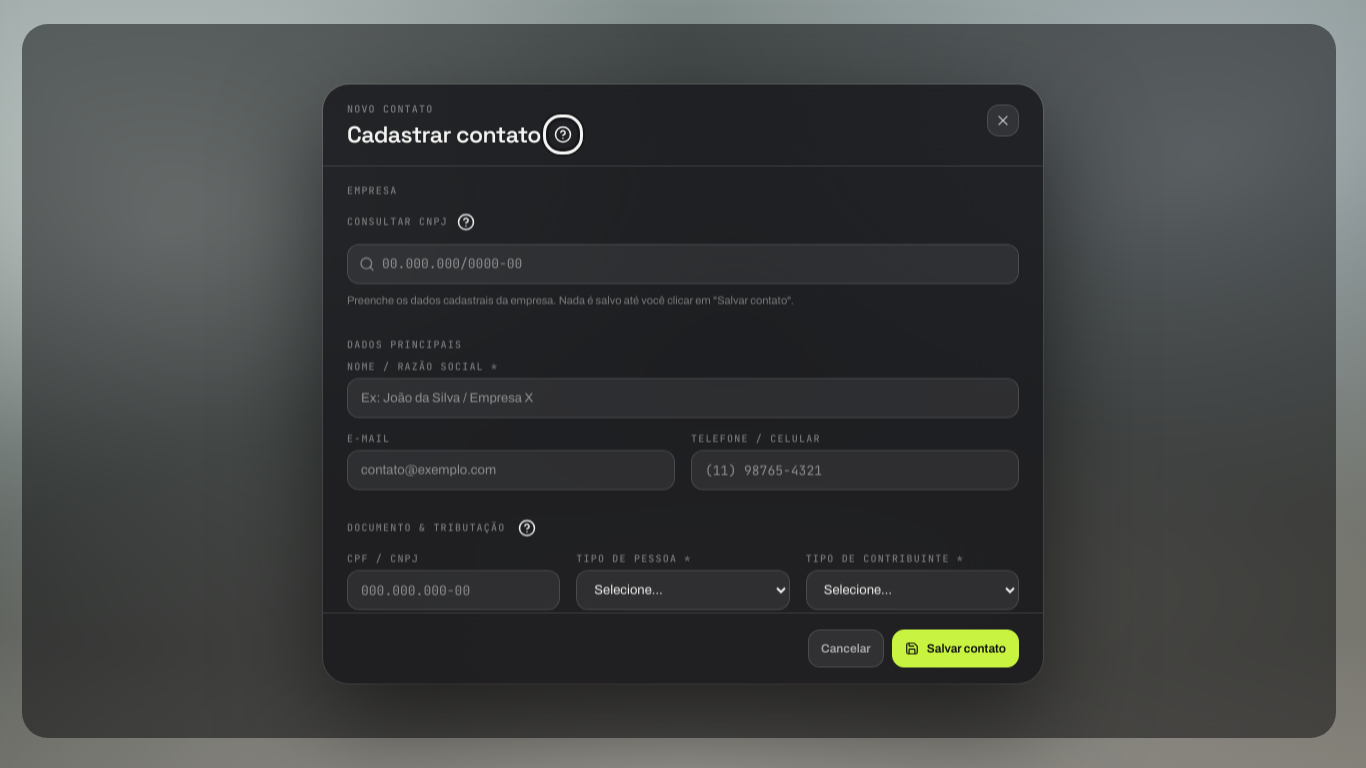
Scenario: ClienteEditModal: consulta por CNPJ › preenche cada campo, tipo = J, contribuinte continua SEM escolha, e nada é gravado
The image size is (1366, 768).
Type "11222333000181" into the field labelled "Consultar CNPJ" at (683, 264), box [347,244,1019,284]
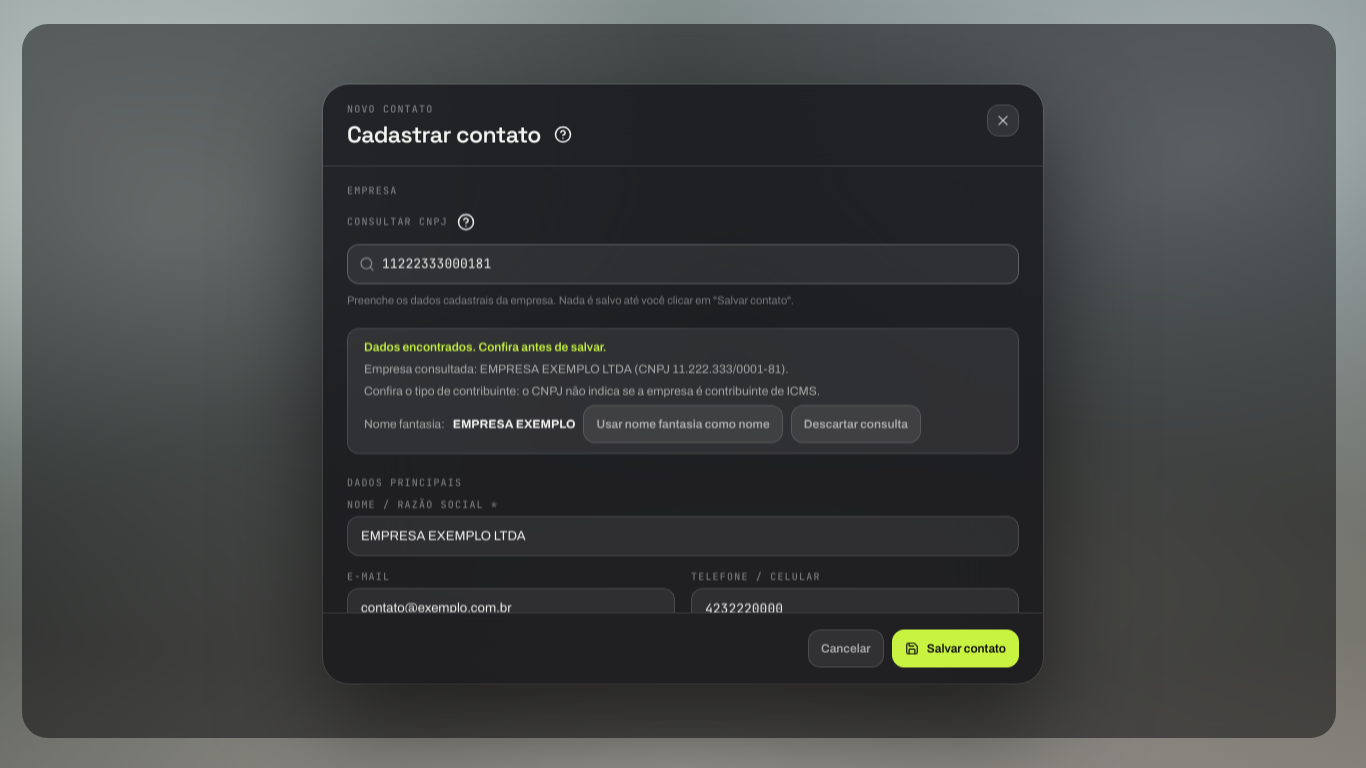
Check: the text "Empresa consultada: EMPRESA EXEMPLO LTDA (CNPJ 11.222.333/0001-81)." is shown, box [364,363,789,377]
Check: the text "Confira o tipo de contribuinte: o CNPJ não indica se a empresa é contribuinte de ICMS." is shown, box [364,385,820,399]
